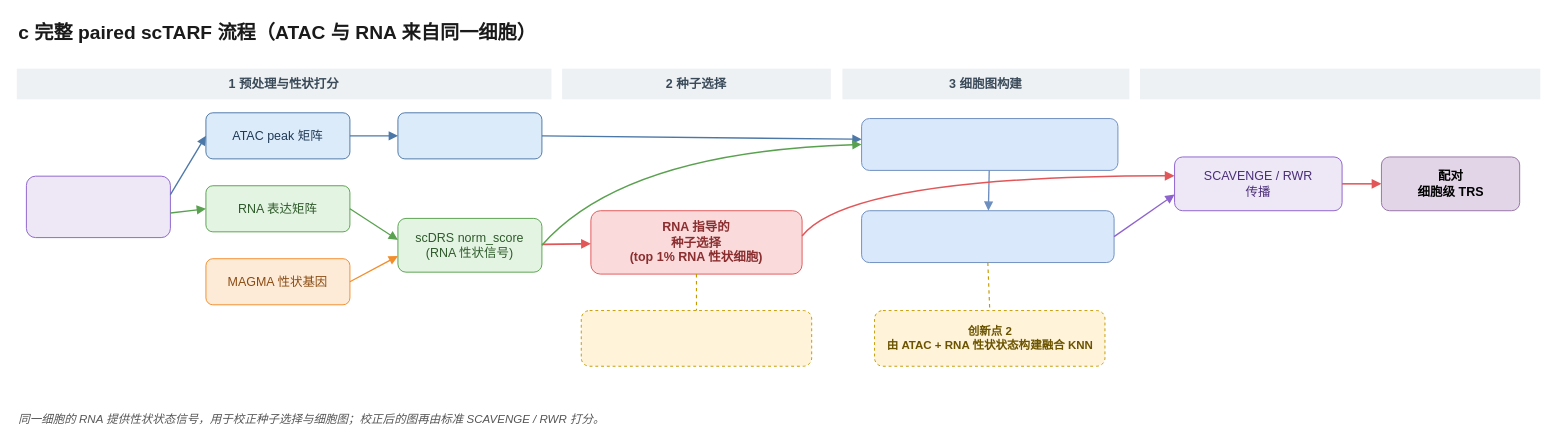
This 1556x444 diagram has some shape labels left out. The shapes that lost their labels are listed below. From the top down, each one's centre as x and y in pixels, then its label:
[1340,83]: 4 RWR / TRS 输出
[469,135]: ATAC LSI
[989,144]: ATAC LSI + RNA 性状表征
[97,206]: 配对 BMMC multiome
[987,236]: 加权融合 KNN 图
[696,338]: 创新点 1 RNA 指导种子替代 ATAC-only 种子
